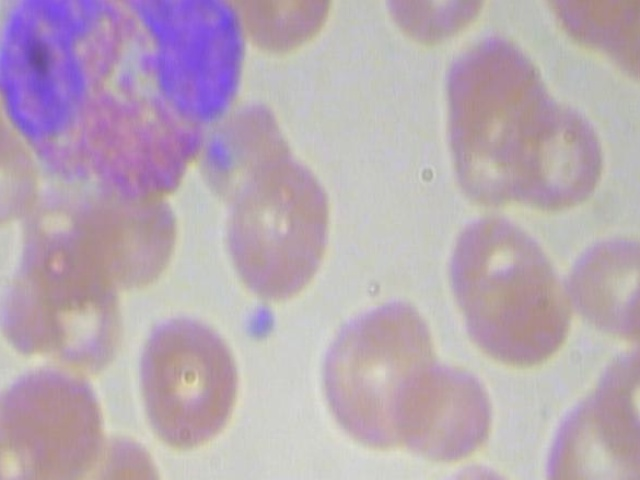Platelets: (238, 302, 281, 345)
RBC: (311, 298, 450, 457), (212, 147, 351, 306), (132, 311, 248, 451), (468, 258, 575, 376), (506, 98, 613, 216), (391, 354, 498, 472), (358, 0, 502, 49), (64, 422, 171, 480)
WBC: (0, 0, 250, 204)
